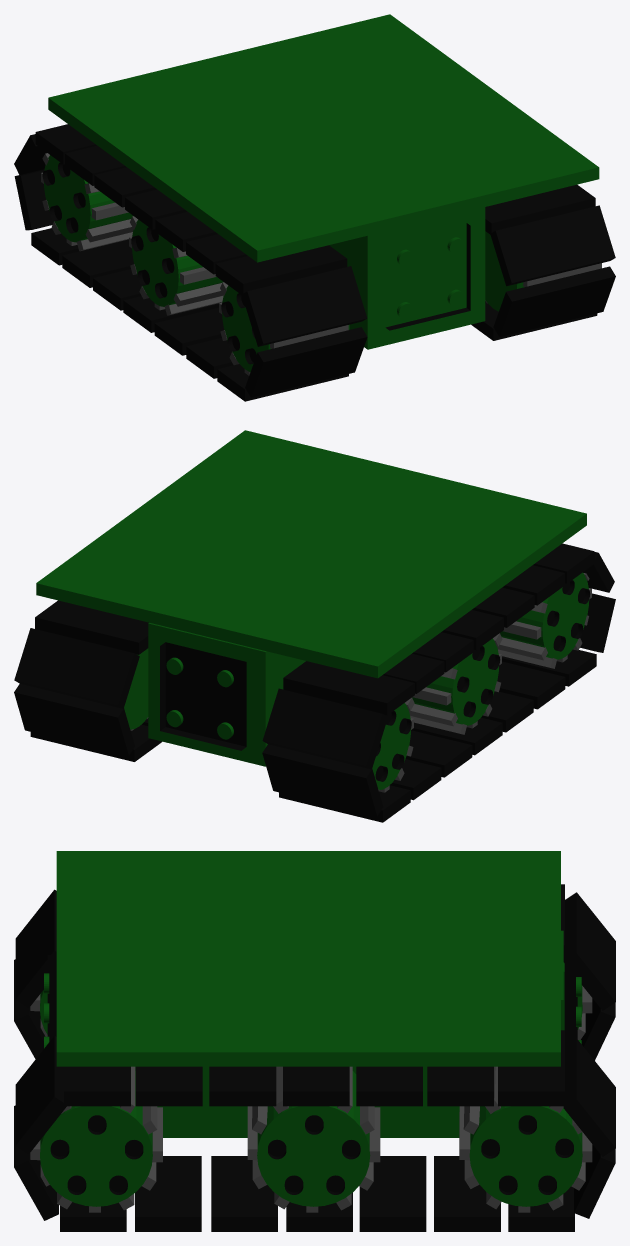
Rendered from tankBodyV4.gltf.
3 renders of one model, top to bottom at view 1: azimuth 30°, elevation 25°; view 2: azimuth 150°, elevation 25°; view 3: azimuth 270°, elevation 25°, orthographic. The views are drawn at different scales.
Parts seen in each view (by area): view 1: Cube.009; view 2: Cube.009; view 3: Cube.009.
Part boxes in pixels (left/top/right/bottom): Cube.009: left=14, top=14, right=615, bottom=401; Cube.009: left=14, top=430, right=615, bottom=822; Cube.009: left=14, top=851, right=615, bottom=1231.
Size of the model in its own units: 8.7 by 3.51 by 10.65.
